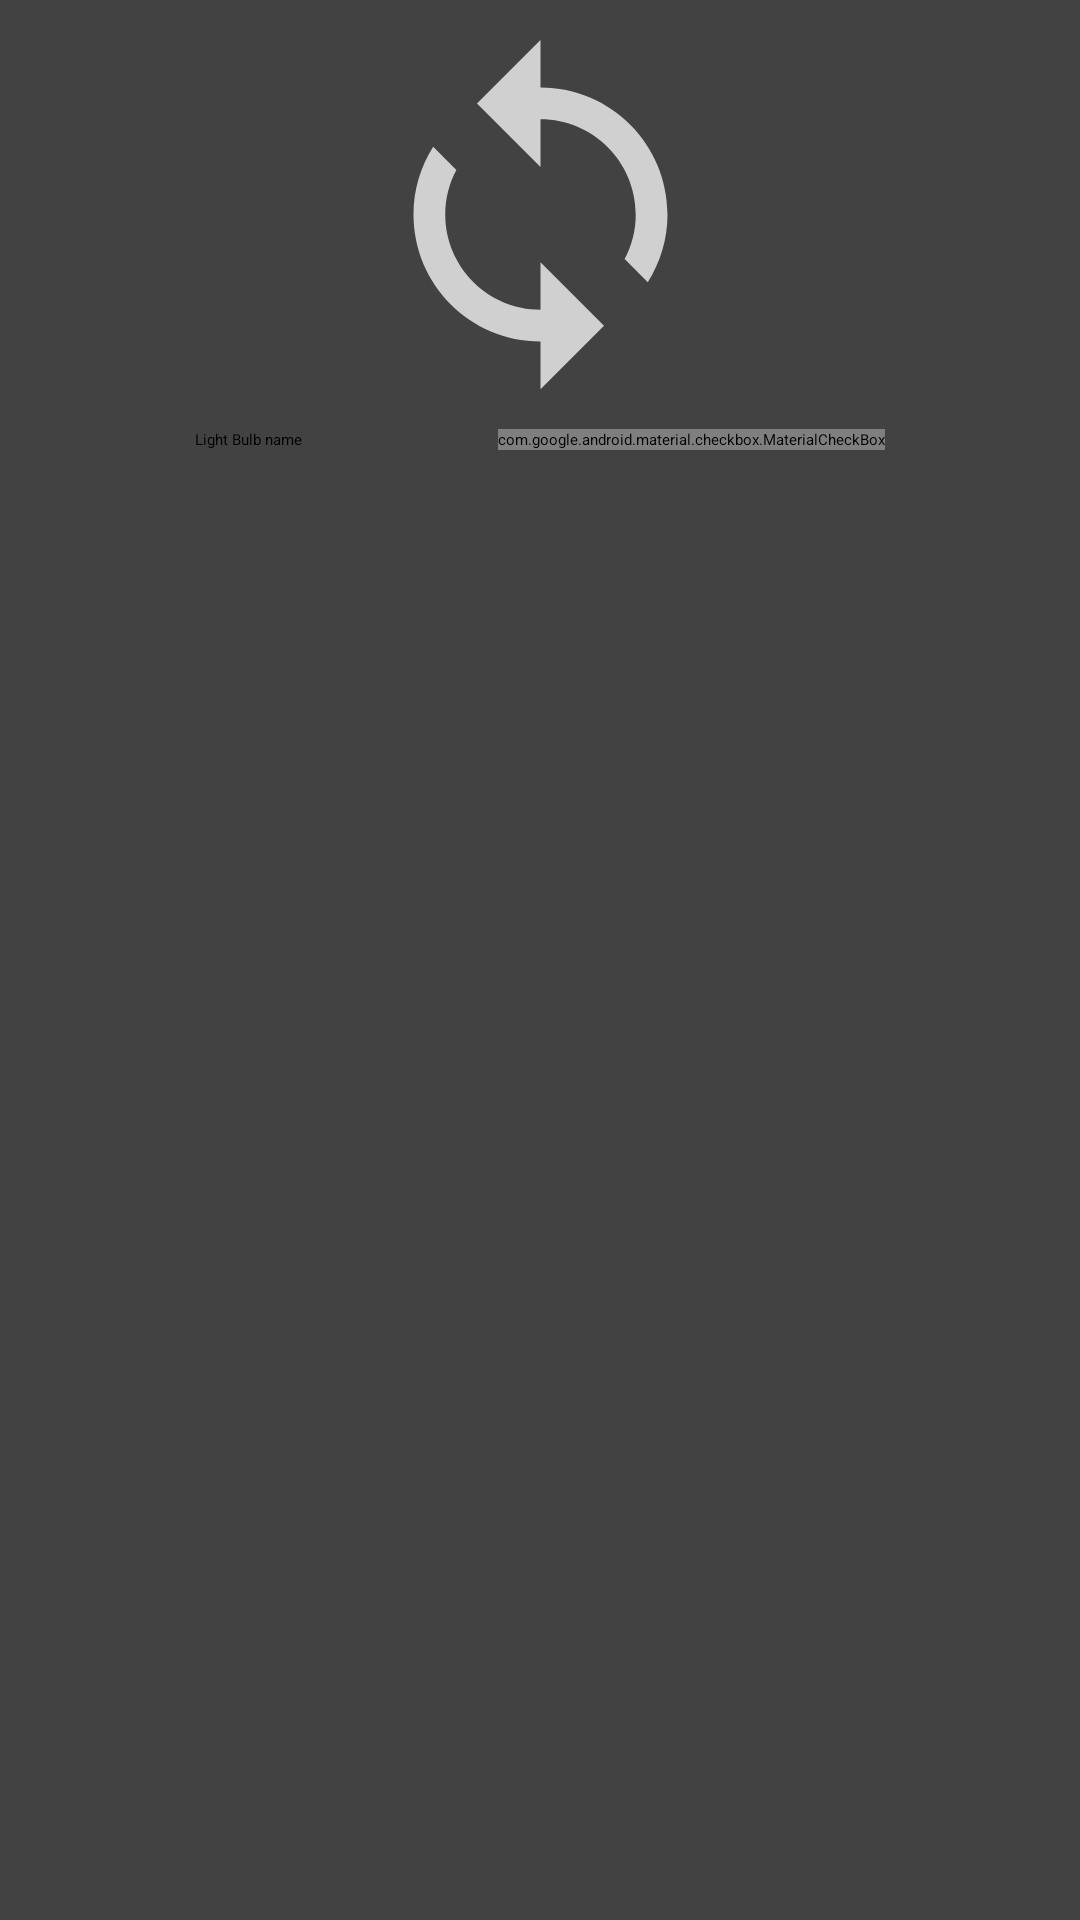

Named icons in this screenshot (1080 x 1920) and their centers, (x,y):
sync: (540,214)
